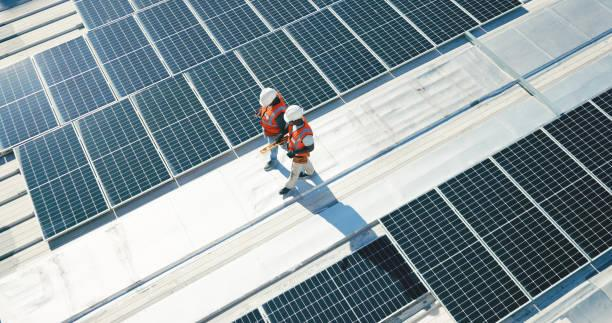capacete: (258, 88, 278, 106), (284, 105, 306, 120)
pessoa: (284, 111, 330, 192), (245, 84, 287, 169)
uniforme seguranca: (288, 124, 314, 160), (261, 103, 284, 140)
